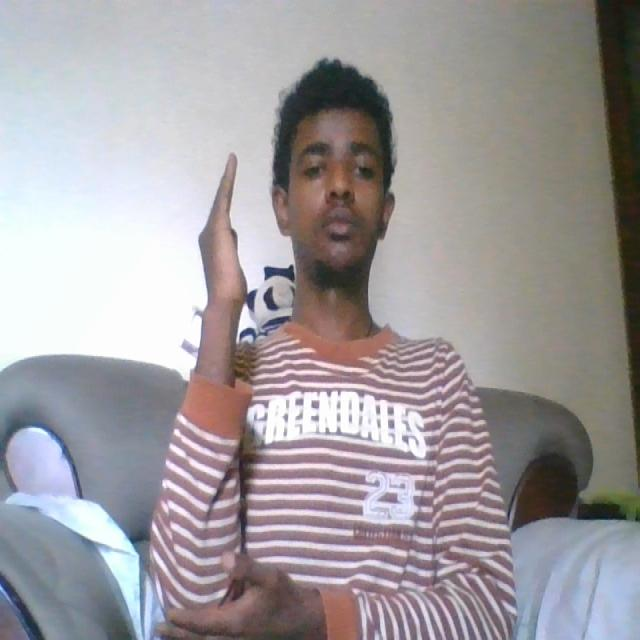egziabher: (162, 144, 287, 640)
